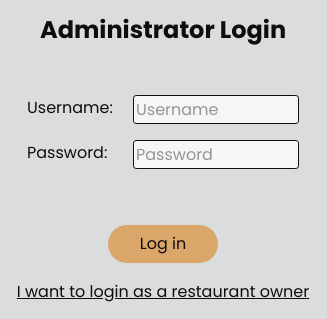
Test case: Test administrator login form › Invalid credentials result in an error message
In the field labelled "Username:": (216, 110) [133,95,299,124], type "testUsername"
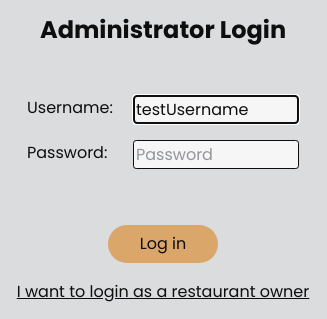
In the password field labelled "Password:": (216, 154) [133,140,299,169], type "testPassword"
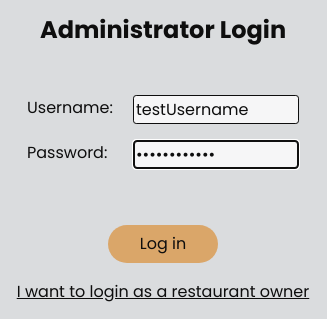
Click the button "Log in": (163, 244) [108,225,218,263]
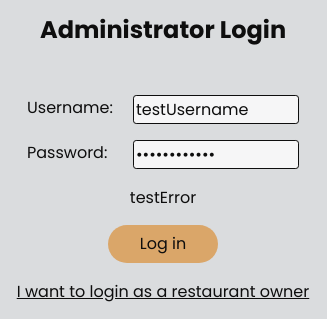
Check: the text "testError" is shown, box [130,185,196,209]
